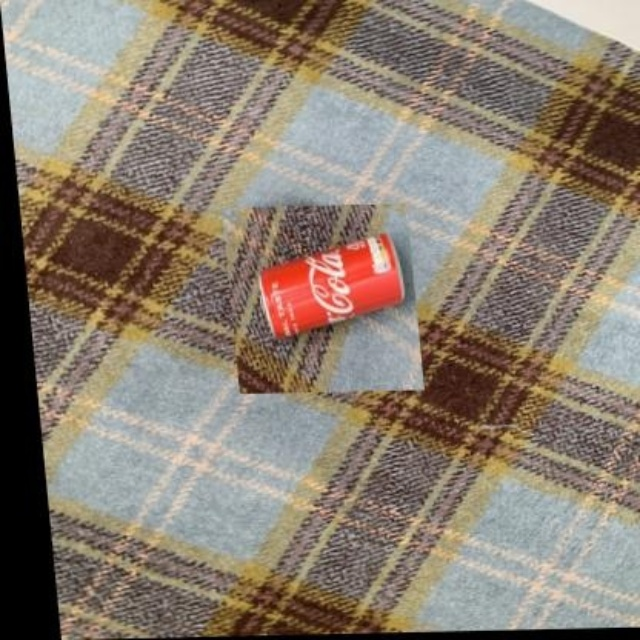trash: (260, 234, 403, 337)
